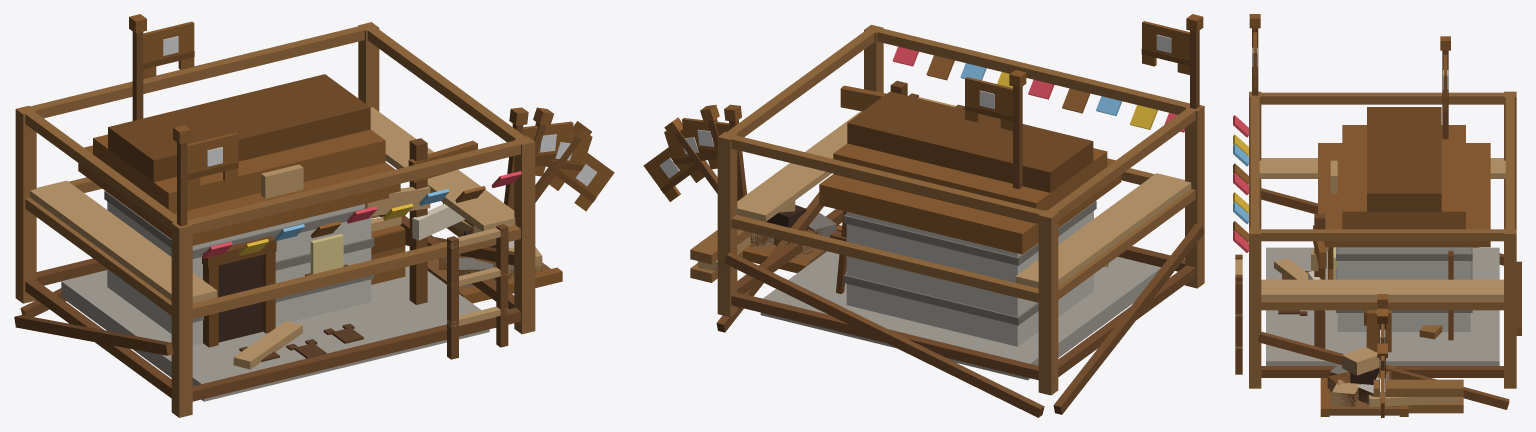
Rendered from bear-research.glb.
3 views of the same model, side by side, from view 1: azimuth 30°, elevation 25°; view 2: azimuth 150°, elevation 25°; view 3: azimuth 270°, elevation 25° (orthographic). The views are drawn at different scales.
Visible parts, largest first — view 1: scaffold-mesh, built-mesh, dismantle-75-mesh, dismantle-50-mesh, banner, scaffold-banner, dismantle-25-banner, flag-pole, dismantle-25-mesh, scaffold-flag-pole, dismantle-50-banner, dismantle-75-banner (+2 smaller); view 2: scaffold-mesh, built-mesh, dismantle-75-mesh, scaffold-banner, banner, dismantle-25-banner, dismantle-50-mesh, flag-pole, dismantle-25-mesh, scaffold-flag-pole, dismantle-50-banner, dismantle-75-banner (+2 smaller); view 3: scaffold-mesh, built-mesh, dismantle-75-mesh, dismantle-25-mesh, dismantle-50-mesh, flag-pole, scaffold-flag-pole, banner, scaffold-banner.
Boxes of the visible parts, x1,y1,x2,y2 form: scaffold-mesh: (14,22,535,417); built-mesh: (78,74,477,361); dismantle-75-mesh: (104,181,562,357); dismantle-50-mesh: (198,233,562,369); banner: (143,21,194,79); scaffold-banner: (187,132,238,189); dismantle-25-banner: (549,145,614,211); flag-pole: (129,14,146,120); dismantle-25-mesh: (233,225,550,369); scaffold-flag-pole: (173,125,191,226); dismantle-50-banner: (535,130,592,181); dismantle-75-banner: (522,121,573,163); scaffold-mesh: (690,24,1204,417); built-mesh: (819,80,1121,346); dismantle-75-mesh: (743,201,1096,380); scaffold-banner: (1141,21,1189,74); banner: (965,77,1012,130); dismantle-25-banner: (643,141,704,201); dismantle-50-mesh: (743,212,1108,379); flag-pole: (1009,70,1026,189); dismantle-25-mesh: (747,201,1023,377); scaffold-flag-pole: (1186,14,1203,108); dismantle-50-banner: (664,126,717,173); dismantle-75-banner: (682,118,729,156); scaffold-mesh: (1233,91,1521,413); built-mesh: (1278,107,1490,340); dismantle-75-mesh: (1314,247,1472,416); dismantle-25-mesh: (1274,262,1442,414); dismantle-50-mesh: (1274,248,1408,416); flag-pole: (1440,36,1450,139); scaffold-flag-pole: (1249,14,1260,95); banner: (1443,54,1448,110); scaffold-banner: (1252,32,1257,88).
Size of the model in its own units: 2.74 by 1.59 by 1.61.
